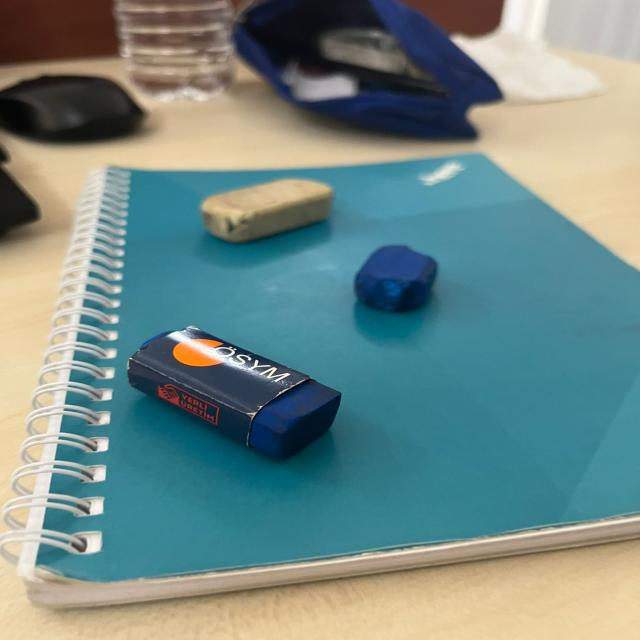eraser: (115, 312, 358, 464), (186, 173, 365, 246), (347, 240, 456, 314)
